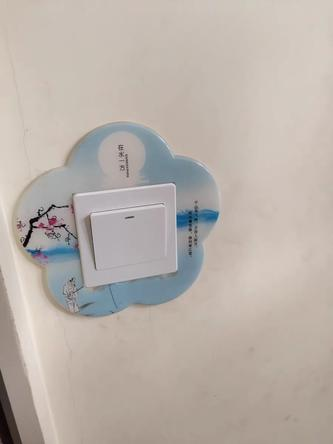switch: (86, 202, 156, 272)
